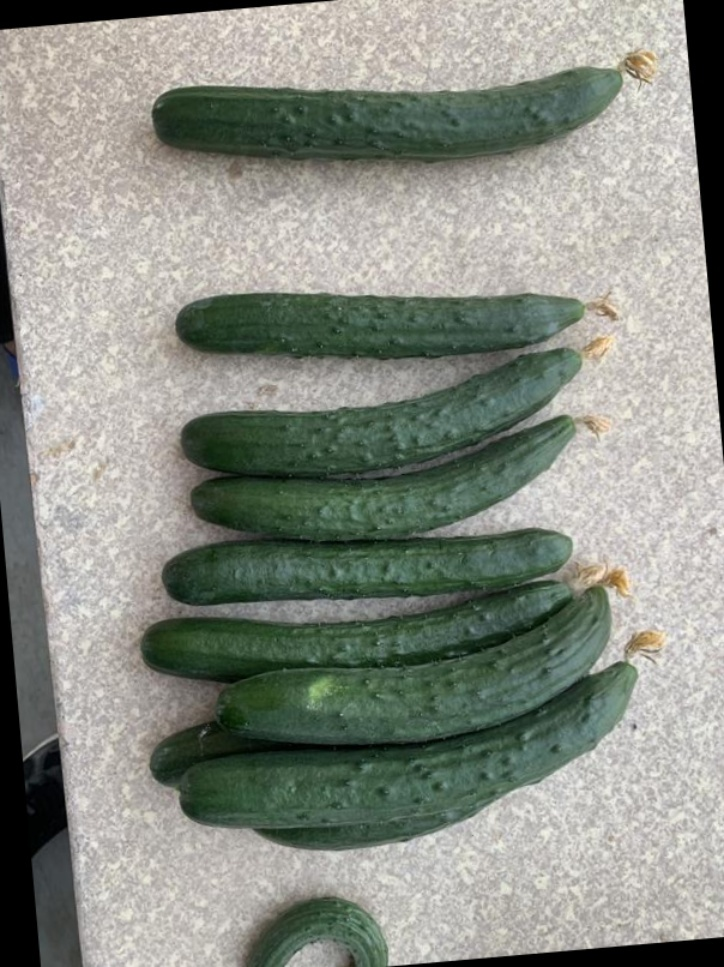mature: (159, 665, 652, 833), (221, 580, 606, 748), (148, 46, 634, 163), (180, 348, 595, 477), (196, 414, 573, 541), (143, 574, 573, 680), (174, 275, 588, 360), (160, 525, 578, 607)
